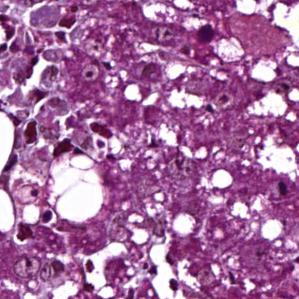ballooning: (45, 150, 107, 225)
